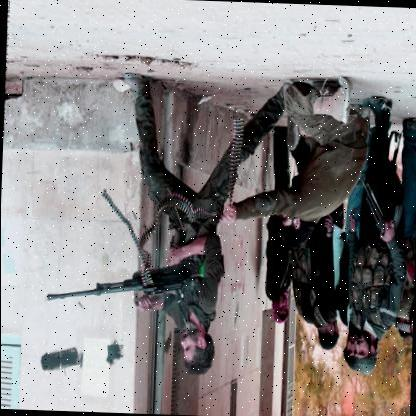rifle: (43, 242, 203, 310), (356, 174, 416, 282)
